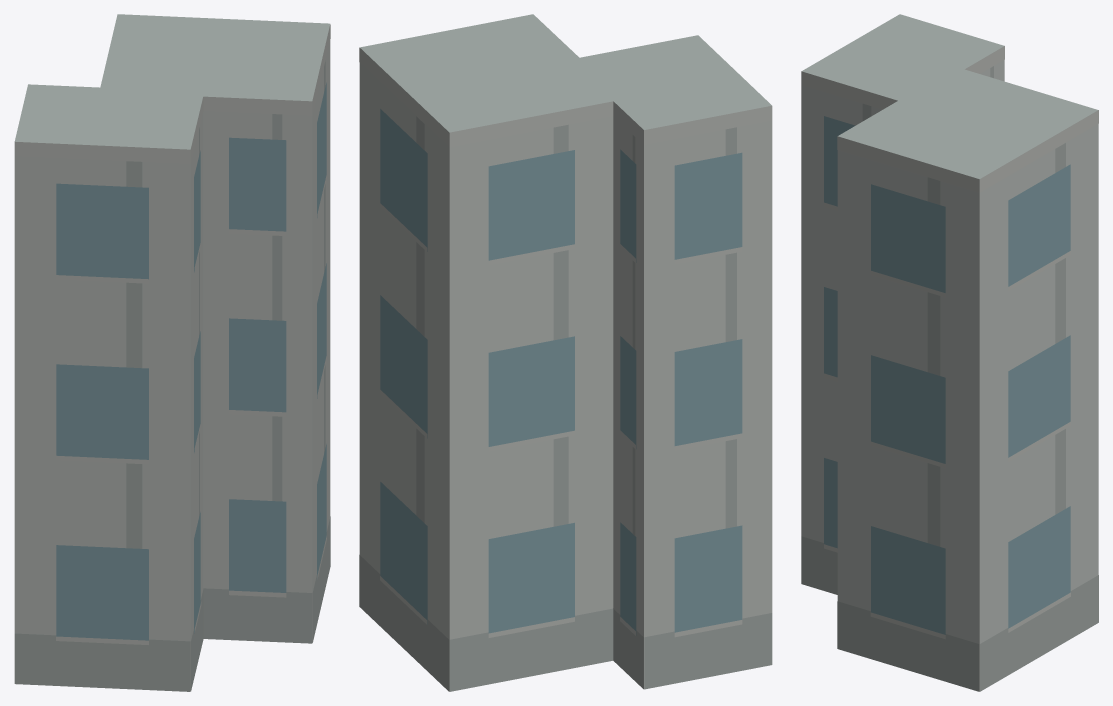
File: survey-upis-32820834.glb
3 renders of one model, left to right at view 1: azimuth 30°, elevation 25°; view 2: azimuth 150°, elevation 25°; view 3: azimuth 270°, elevation 25°, orthographic. The views are drawn at different scales.
Visible parts, largest first — view 1: survey-upis-32820834.tmp; view 2: survey-upis-32820834.tmp; view 3: survey-upis-32820834.tmp.
Part boxes in pixels (<box>): survey-upis-32820834.tmp: <box>14,14,330,691</box>; survey-upis-32820834.tmp: <box>359,14,772,691</box>; survey-upis-32820834.tmp: <box>801,14,1098,691</box>.
Size of the model in its own units: 6.33 by 9.15 by 4.82.
